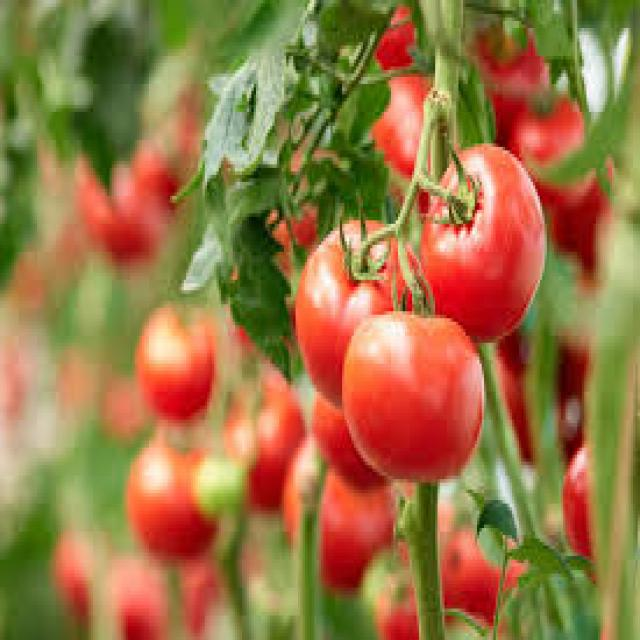Tomato: (415, 142, 549, 348), (339, 307, 482, 481), (296, 212, 426, 394), (69, 123, 173, 265), (128, 433, 223, 559), (313, 458, 398, 586), (137, 299, 220, 420), (428, 511, 516, 620), (509, 72, 590, 184), (226, 380, 301, 499), (478, 15, 548, 111), (557, 438, 609, 560)
